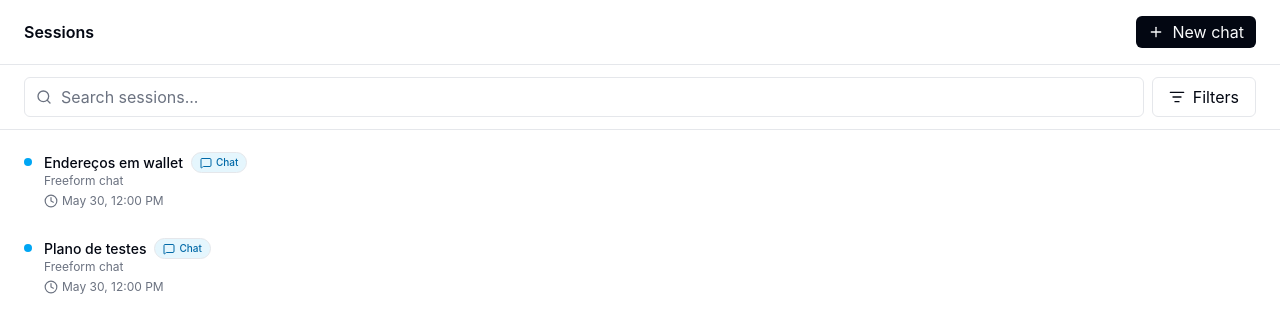
Scenario: AssistantPage › filters sessions by the search query
Expected: the link "Endereços em wallet Chat Freeform chat May 30, 12:00 PM" is shown, top-left (24, 152), bottom-right (247, 208)
Type "wallet" into the search field labelled "Search sessions..." at (584, 97), box top-left (24, 77), bottom-right (1144, 117)
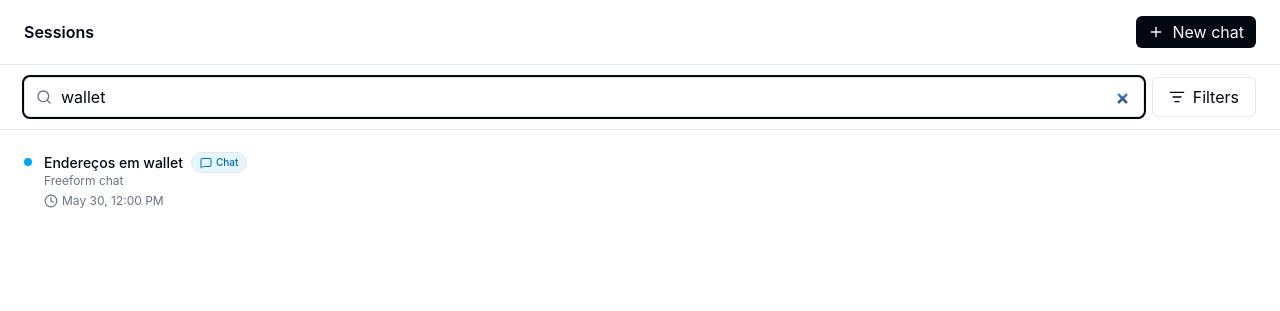
Expected: the link "Endereços em wallet Chat Freeform chat May 30, 12:00 PM" is shown, top-left (24, 152), bottom-right (247, 208)
Expected: the link "Plano de testes" is gone
